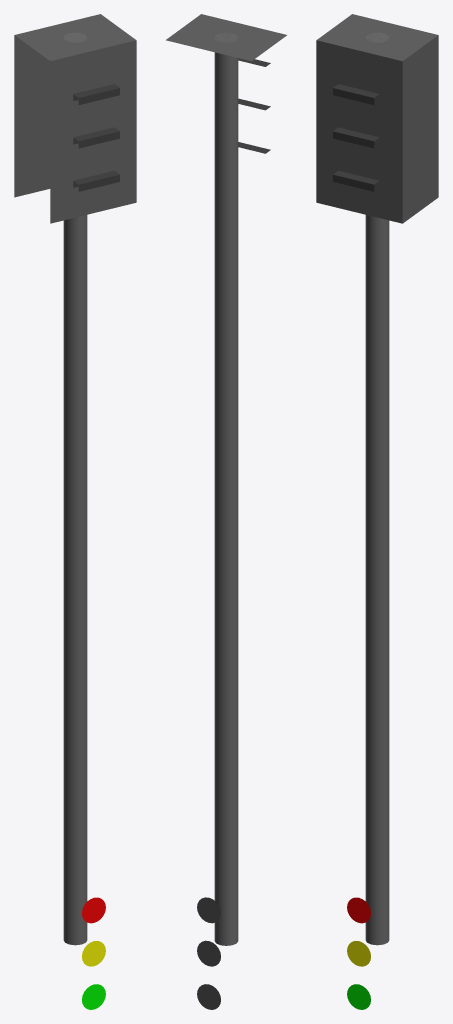
Rendered from traffic_light.gltf.
3 views of the same model, side by side, from view 1: azimuth 30°, elevation 25°; view 2: azimuth 150°, elevation 25°; view 3: azimuth 330°, elevation 25° (orthographic).
Visible parts, largest first — view 1: Head, Pole, Visor_0.24, Visor_-0.24, Visor_0, Light_0.24, Light_0, Light_-0.24; view 2: Pole, Head, LightBack_0.24, LightBack_0, LightBack_-0.24; view 3: Head, Pole, Visor_0.24, Visor_-0.24, Visor_0, Light_0.24, Light_0, Light_-0.24.
Boxes of the visible parts, box(x1,y1,x2,y2) form: Head: box(14, 14, 136, 223); Pole: box(63, 32, 87, 945); Visor_0.24: box(73, 84, 119, 104); Visor_-0.24: box(73, 170, 119, 191); Visor_0: box(73, 127, 119, 148); Light_0.24: box(82, 897, 105, 923); Light_0: box(82, 941, 105, 966); Light_-0.24: box(82, 984, 105, 1009); Pole: box(214, 32, 238, 945); Head: box(166, 14, 286, 61); LightBack_0.24: box(197, 897, 220, 923); LightBack_0: box(197, 940, 220, 966); LightBack_-0.24: box(197, 984, 220, 1009); Head: box(316, 14, 438, 223); Pole: box(365, 32, 389, 945); Visor_0.24: box(333, 84, 379, 105); Visor_-0.24: box(333, 170, 379, 191); Visor_0: box(333, 127, 379, 148); Light_0.24: box(347, 897, 370, 923); Light_0: box(347, 941, 370, 966); Light_-0.24: box(347, 984, 370, 1009).
Size of the model in its own units: 0.5 by 5.31 by 0.42.
